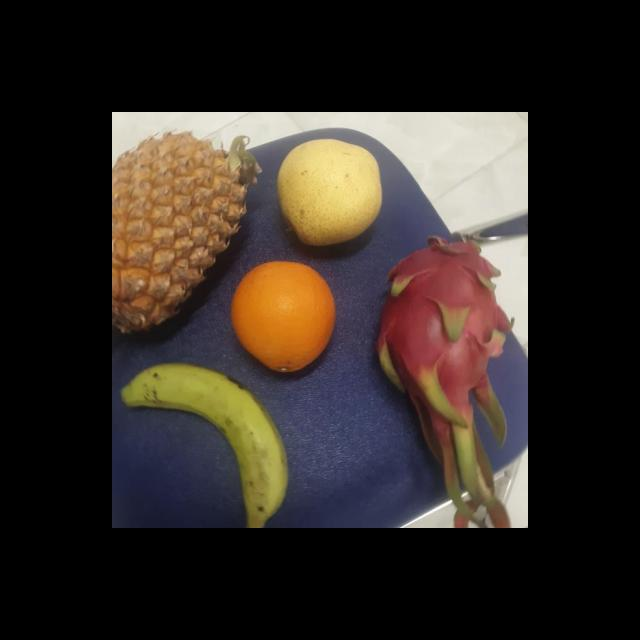banana: (127, 362, 290, 528)
orange: (232, 261, 338, 373)
pear: (271, 134, 385, 243)
pineapple: (112, 132, 251, 338)
pitaya: (378, 240, 512, 422)
